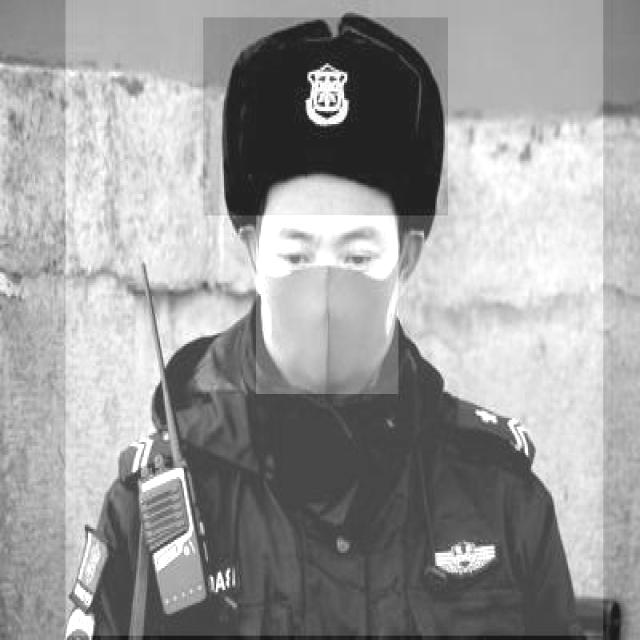face_mask: (256, 216, 398, 394)
head_nohelmet: (202, 17, 448, 218)
person: (64, 0, 603, 638)
